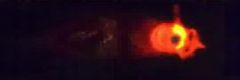keyhole: (169, 33, 182, 47)
